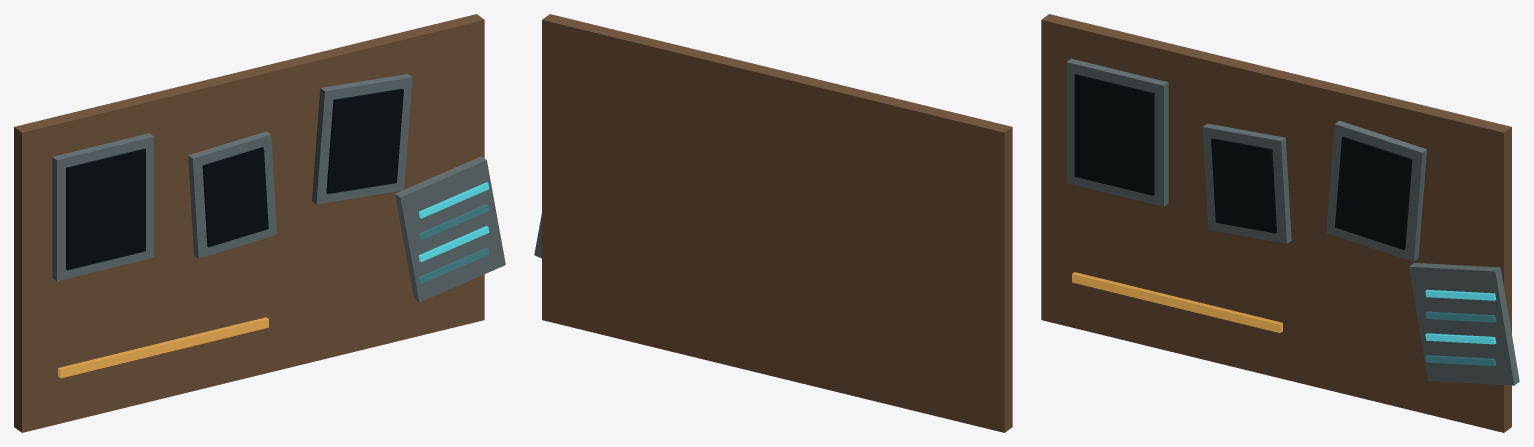
The model's file is hp_room_cyber_mural_family_glitch.glb.
3 views of the same model, side by side, from view 1: azimuth 30°, elevation 25°; view 2: azimuth 150°, elevation 25°; view 3: azimuth 330°, elevation 25° (orthographic).
Parts seen in each view (by area): view 1: mural_backing, frame_glitch, photo_0, photo_2, photo_1, frame_0, frame_2, frame_1, caption_warm, static_line_3, static_line_1, static_line_2 (+1 smaller); view 2: mural_backing; view 3: mural_backing, frame_glitch, photo_0, photo_2, photo_1, frame_0, frame_2, frame_1, caption_warm, static_line_1, static_line_3, static_line_2 (+1 smaller).
Part boxes in pixels (x1,y1,x2,y2): mural_backing: (14,14,484,432); frame_glitch: (395,156,505,302); photo_0: (66,148,145,270); photo_2: (326,88,403,193); photo_1: (202,147,268,247); frame_0: (52,133,153,281); frame_2: (312,74,412,204); frame_1: (188,131,276,258); caption_warm: (58,317,268,378); static_line_3: (418,182,489,218); static_line_1: (418,226,489,262); static_line_2: (418,204,489,240); mural_backing: (542,14,1012,432); mural_backing: (1041,14,1511,432); frame_glitch: (1409,263,1519,385); photo_0: (1074,74,1154,195); photo_2: (1335,136,1412,249); photo_1: (1211,138,1277,233); frame_0: (1066,58,1168,206); frame_2: (1326,120,1426,261); frame_1: (1202,123,1291,243); caption_warm: (1072,272,1282,332); static_line_1: (1425,333,1495,344); static_line_3: (1425,289,1496,300); static_line_2: (1425,311,1495,322).
Size of the model in its own units: 2.07 by 1.24 by 0.1125.
